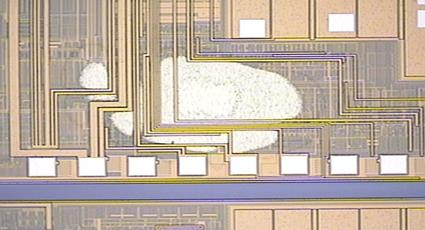BLOCK ETCH: (59, 35, 331, 163)
